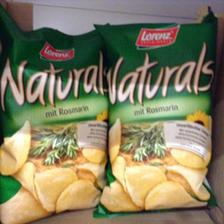Chips: (94, 22, 214, 218), (2, 31, 106, 222)
